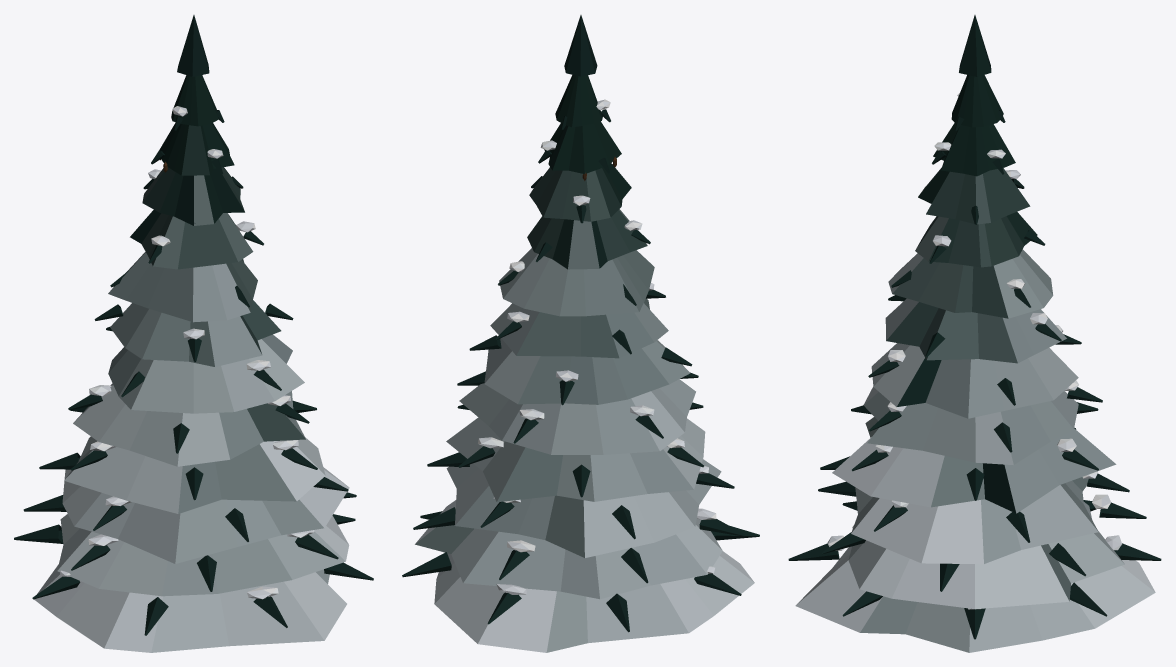
File: tree_spruce.glb
3 renders of one model, left to right at view 1: azimuth 30°, elevation 25°; view 2: azimuth 150°, elevation 25°; view 3: azimuth 270°, elevation 25°, orthographic.
Parts seen in each view (by area): view 1: tree_spruce; view 2: tree_spruce; view 3: tree_spruce.
Boxes of the visible parts, x1,y1,x2,y2 form: tree_spruce: [14, 15, 373, 652]; tree_spruce: [402, 15, 759, 652]; tree_spruce: [788, 15, 1161, 652].
Bounding box in the file's own units: 6.1 × 10.33 × 6.1.
